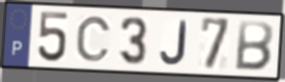3: (117, 15, 150, 66)
5: (37, 11, 71, 64)
7: (200, 16, 232, 73)
B: (232, 19, 276, 73)
C: (75, 14, 113, 63)
J: (158, 19, 189, 67)
